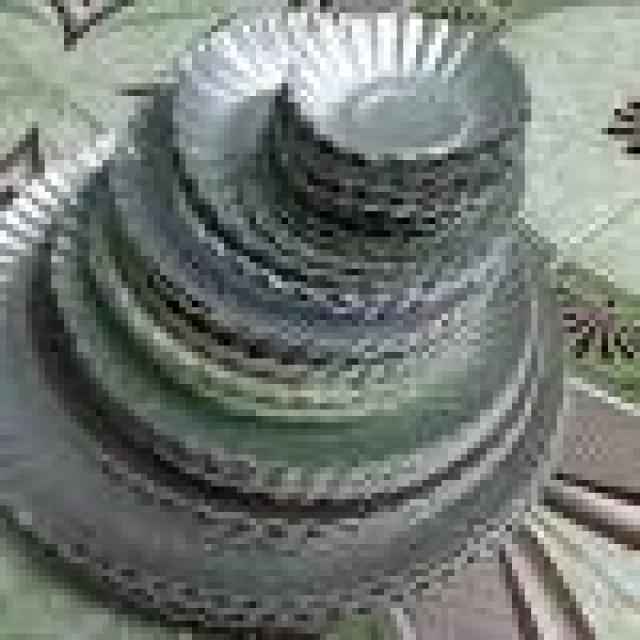Paper -Biodegradable-: (0, 0, 565, 614)
